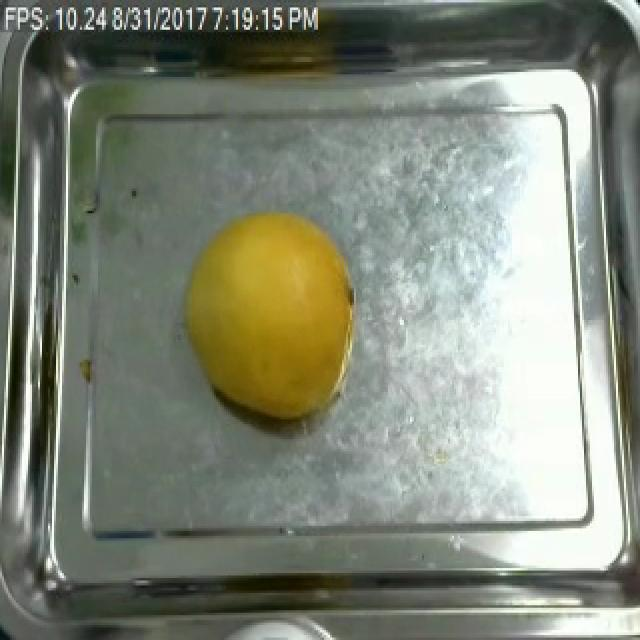fruit: (166, 201, 366, 437)
